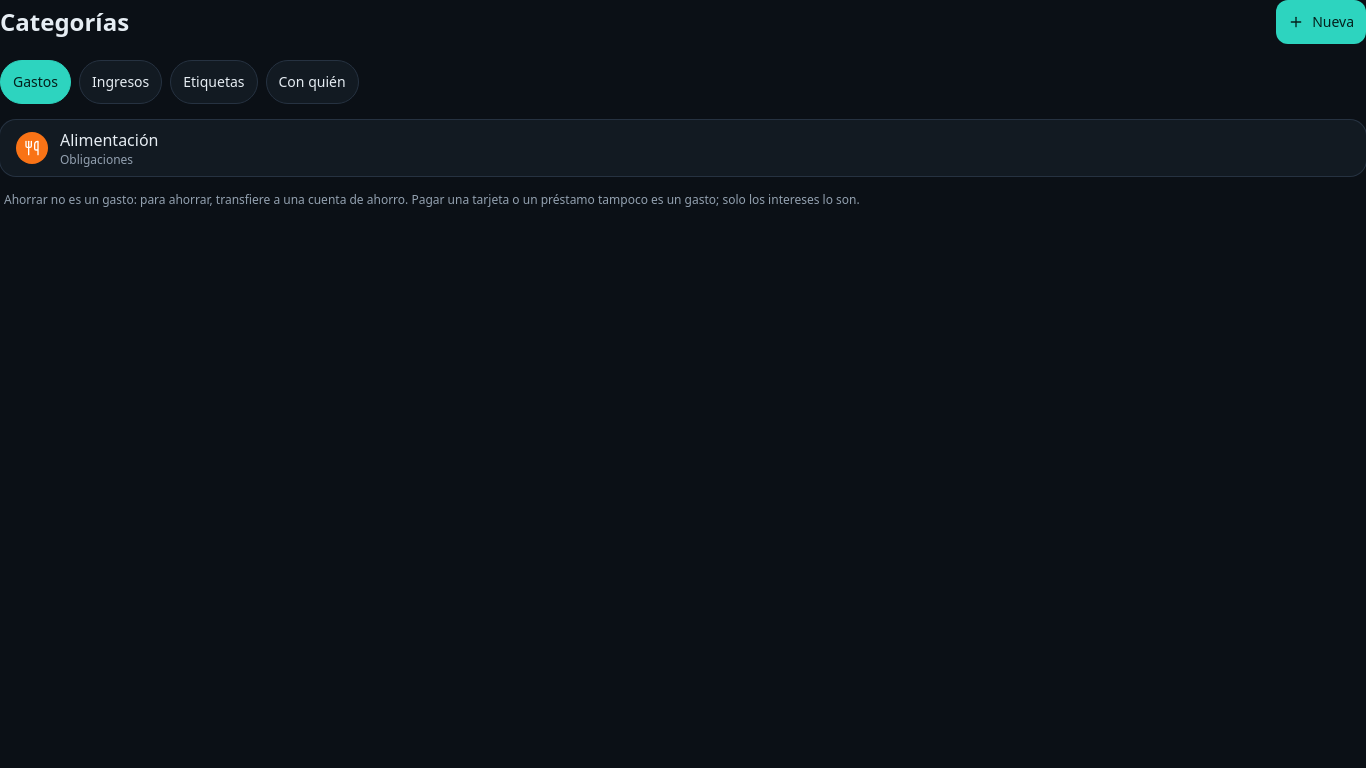
Scenario: CategoriesPage › shows TAG_NAME_TAKEN under the name field and clears it when typing
Click the radio button labelled "Etiquetas".
click(214, 82)  # box [170,60,258,104]
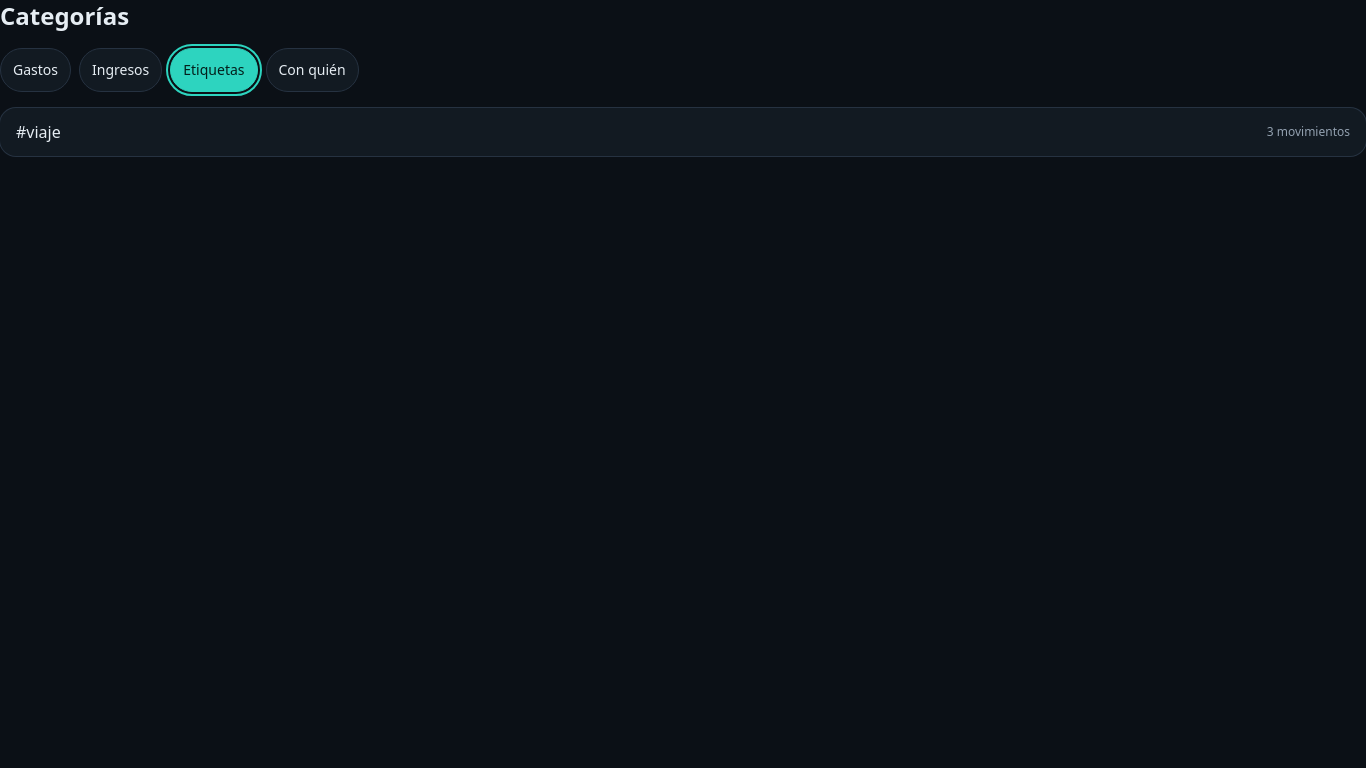
Click the button "#viaje 3 movimientos".
click(44, 132)  # box [0,108,1365,156]
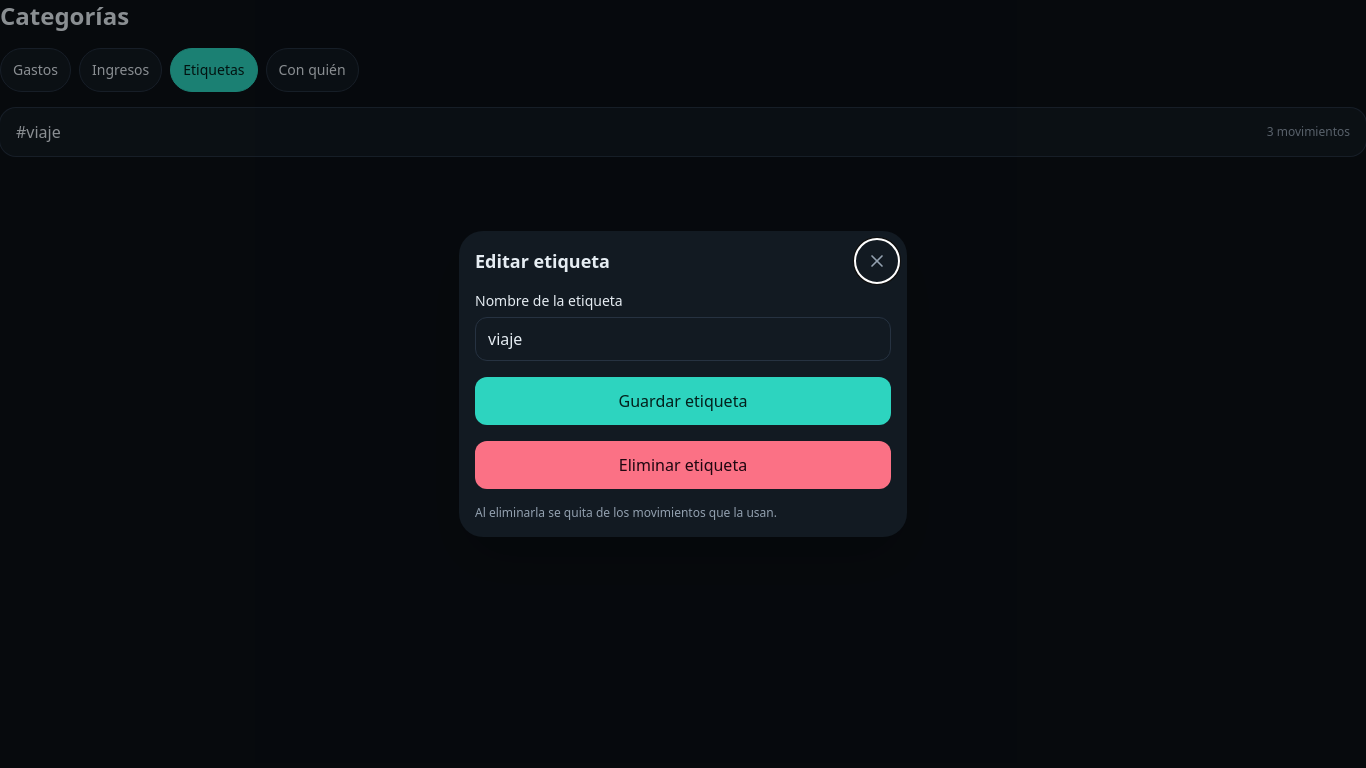
Type "x" into the field labelled "Nombre de la etiqueta".
click(683, 339); type("x")  # box [475,317,891,361]
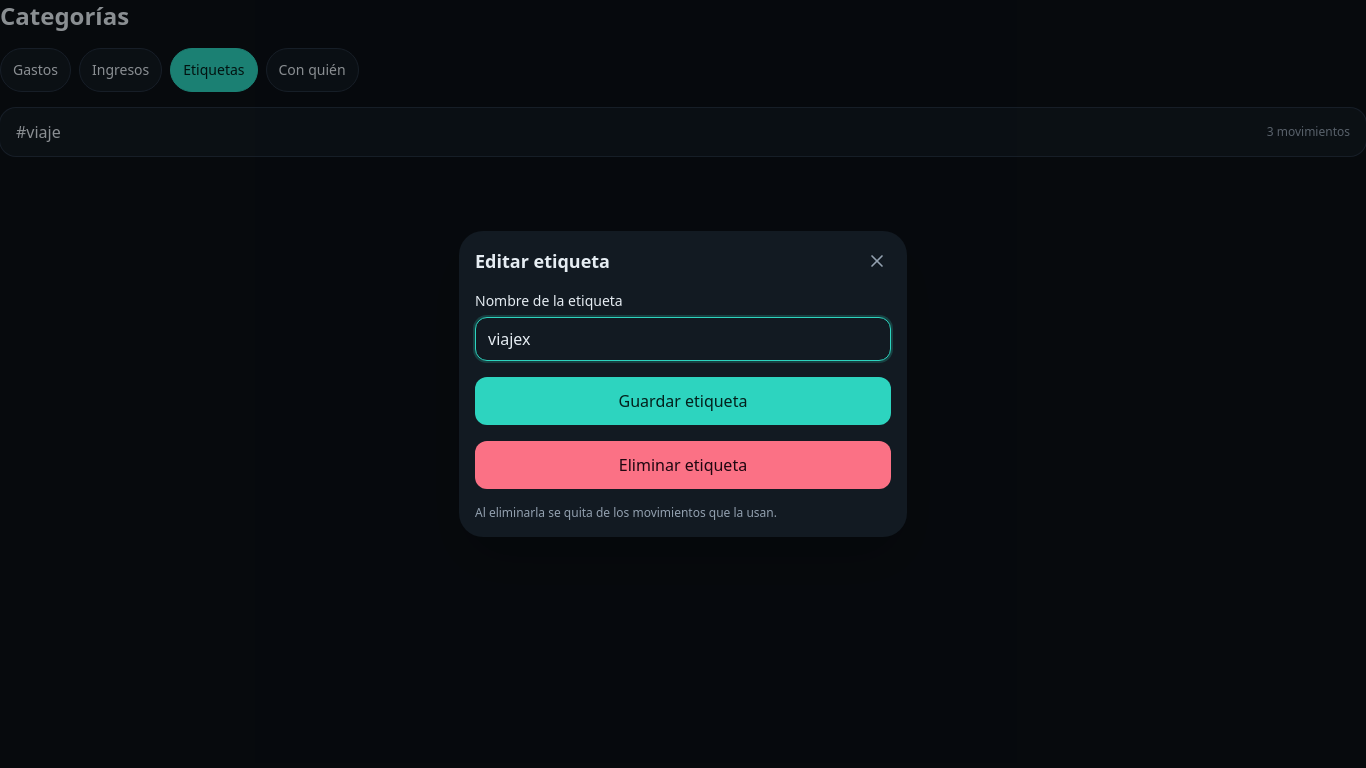
Click the button "Guardar etiqueta".
click(683, 401)  # box [475,377,891,425]
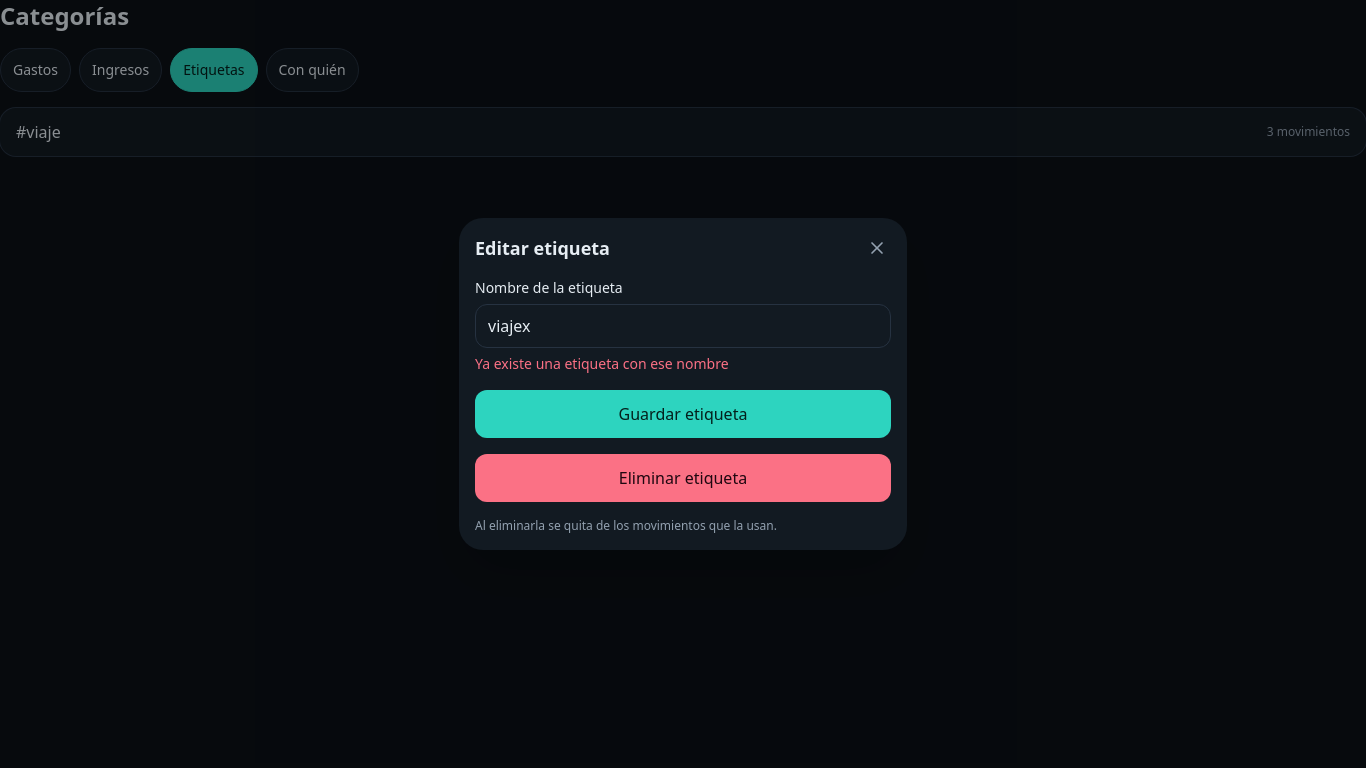
expect the text "Ya existe una etiqueta con ese nombre" is shown: met, box [475,354,729,373]
Type "y" into the field labelled "Nombre de la etiqueta".
click(683, 326); type("y")  # box [475,304,891,348]
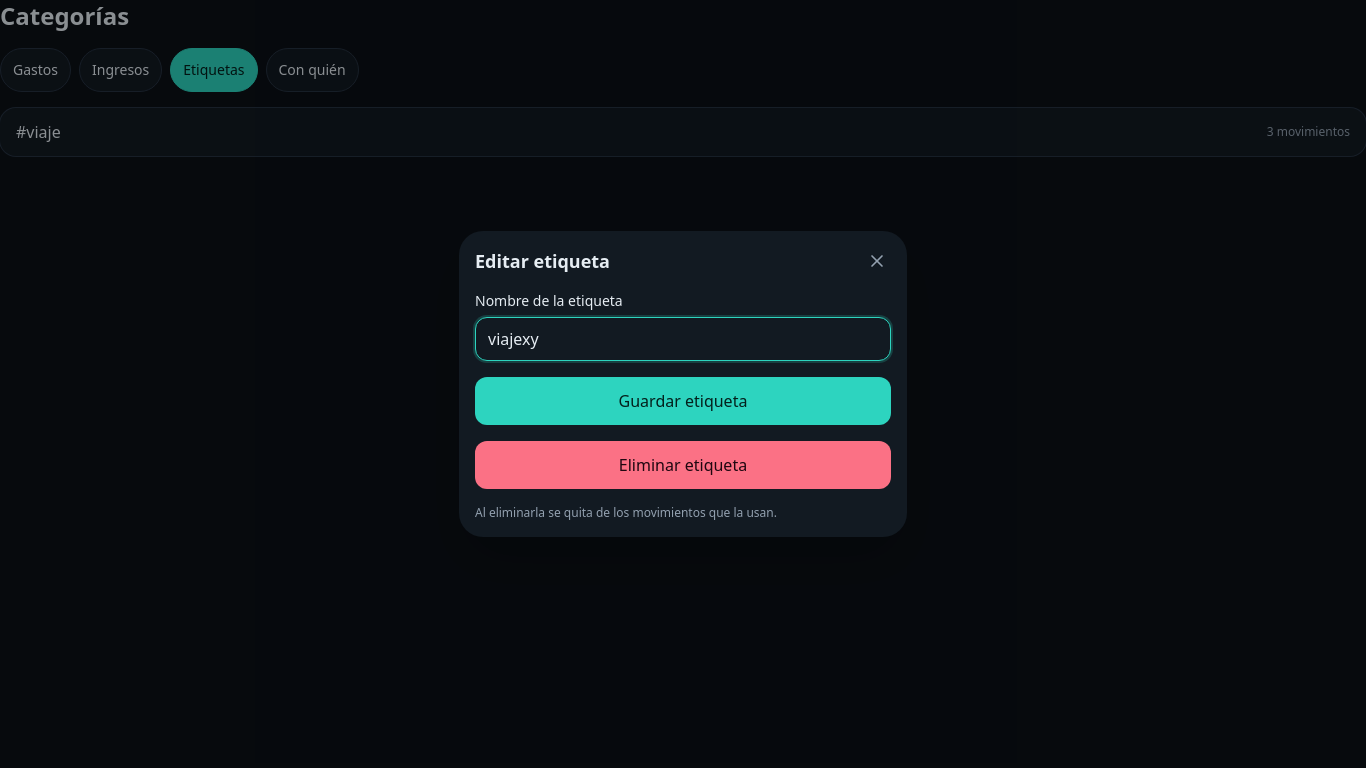
expect the text "Ya existe una etiqueta con ese nombre" is gone: met
